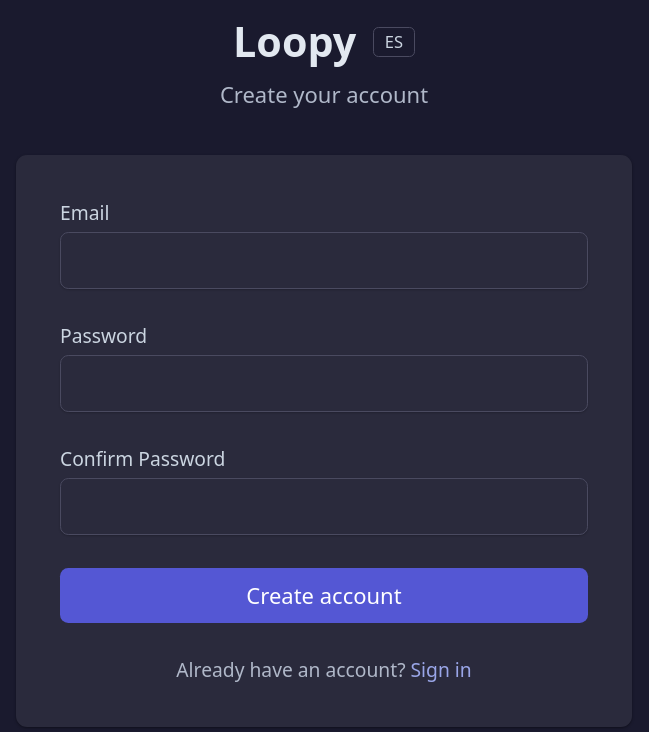
Test case: Router / Navigation Tests › Navigation between pages › navigates from register to login page
This screenshot has width=649, height=732.
Expected: the text "Create your account" is shown, [220, 78, 428, 108]
# Click Sign in link
Click the link "Sign in": [441, 669] box [410, 656, 472, 682]
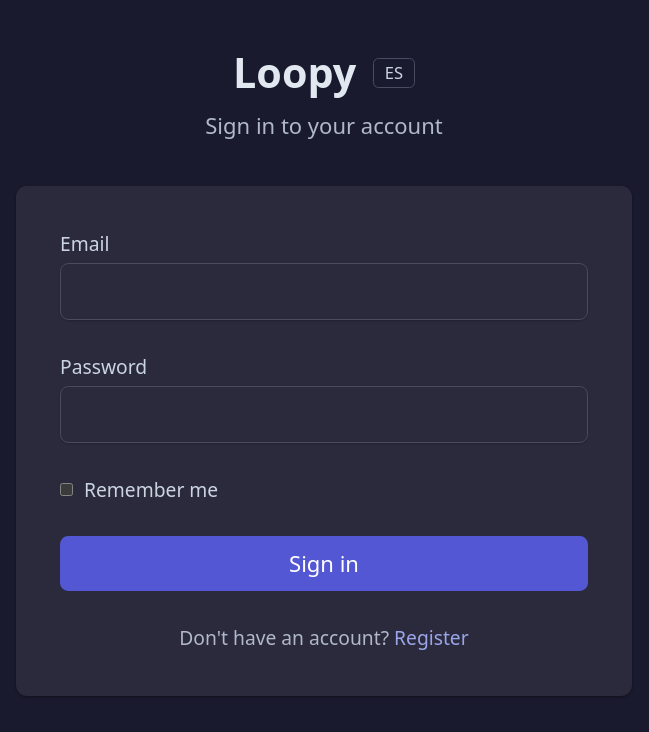
Expected: the text "Sign in to your account" is shown, [205, 110, 443, 140]
